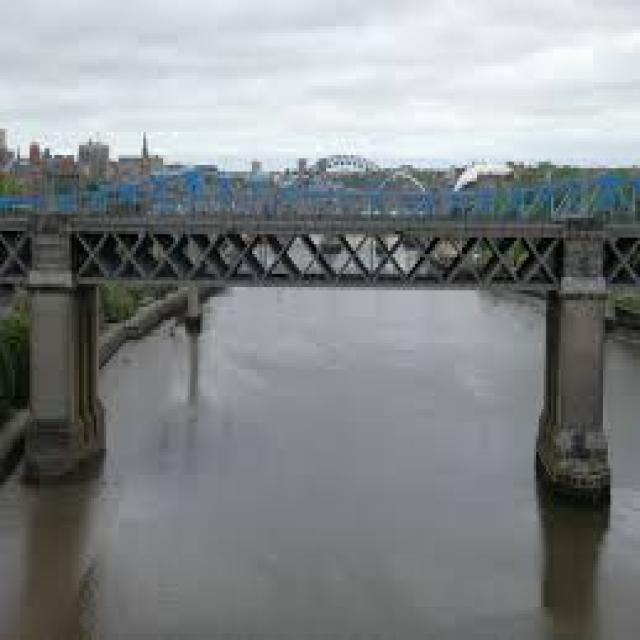Bridges: (2, 165, 640, 521)
